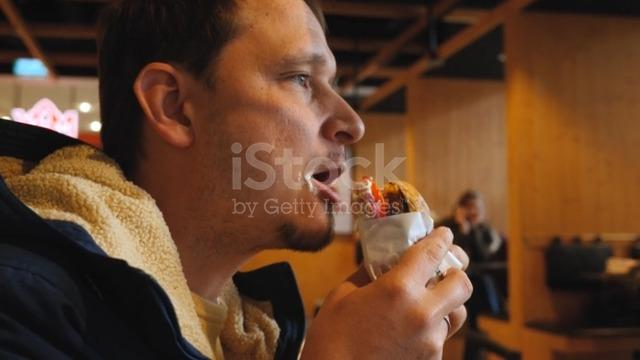Eating: (138, 3, 499, 345)
